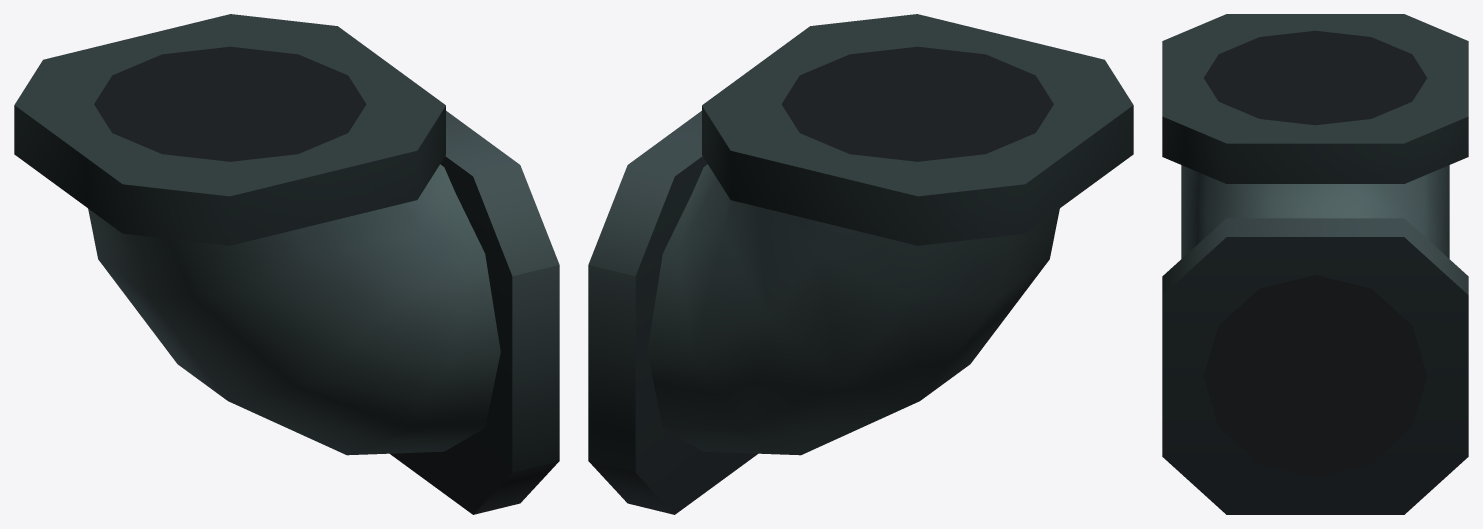
The model's file is Pipe_3F.fbx.
The picture shows the model from 3 angles, left to right: view 1: azimuth 30°, elevation 25°; view 2: azimuth 150°, elevation 25°; view 3: azimuth 270°, elevation 25°; orthographic projection. The views are drawn at different scales.
Parts seen in each view (by area): view 1: Pipe_3F; view 2: Pipe_3F; view 3: Pipe_3F.
Part boxes in pixels (bbox=[...]): Pipe_3F: bbox=[14, 14, 559, 514]; Pipe_3F: bbox=[588, 14, 1133, 514]; Pipe_3F: bbox=[1162, 14, 1468, 514].
Size of the model in its own units: 169 by 169 by 137.
